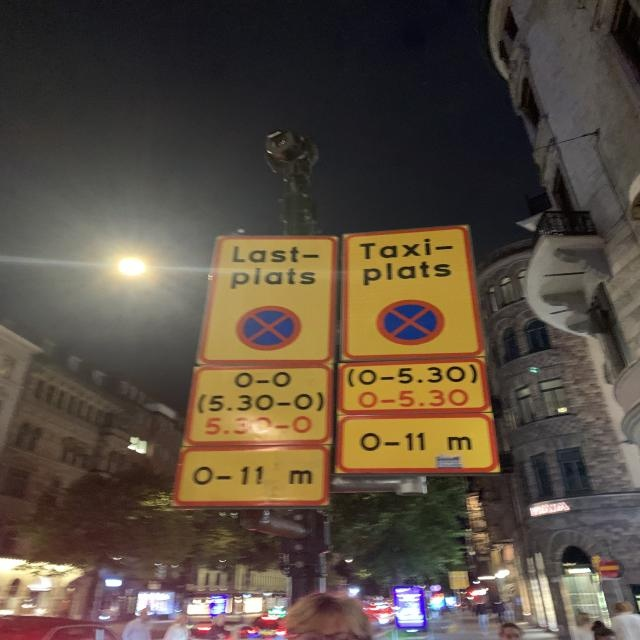lastplats: (197, 232, 341, 364)
